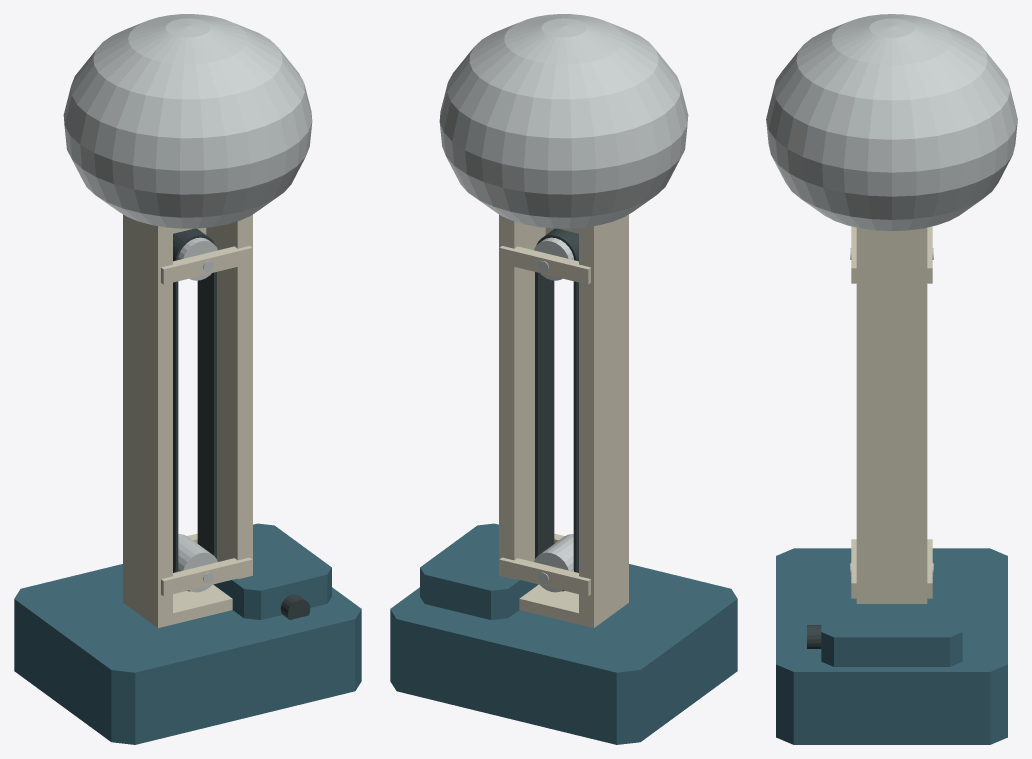
The picture shows the model from 3 angles, left to right: view 1: azimuth 30°, elevation 25°; view 2: azimuth 150°, elevation 25°; view 3: azimuth 270°, elevation 25°; orthographic projection.
Parts seen in each view (by area): view 1: WholeRoundedTerminalCover, WholeLowChamferedBase, WholeWindowedColumn, WholeContinuousWideReturnBelt, WholeSideDriveHousing, WholeBearingCrossbar0_0, WholeBearingCrossbar1_0, WholeRoller0, WholeRoller1, WholeBlankControlKnob; view 2: WholeRoundedTerminalCover, WholeLowChamferedBase, WholeWindowedColumn, WholeContinuousWideReturnBelt, WholeSideDriveHousing, WholeBearingCrossbar0_1, WholeBearingCrossbar1_1, WholeRoller0, WholeRoller1; view 3: WholeRoundedTerminalCover, WholeLowChamferedBase, WholeWindowedColumn, WholeSideDriveHousing.
Boxes of the visible parts, x1,y1,x2,y2 form: WholeRoundedTerminalCover: [63, 14, 312, 228]; WholeLowChamferedBase: [14, 564, 361, 744]; WholeWindowedColumn: [123, 214, 252, 627]; WholeContinuousWideReturnBelt: [173, 228, 216, 591]; WholeSideDriveHousing: [213, 523, 331, 619]; WholeBearingCrossbar0_0: [161, 557, 252, 596]; WholeBearingCrossbar1_0: [161, 246, 252, 284]; WholeRoller0: [178, 534, 217, 592]; WholeRoller1: [178, 237, 217, 280]; WholeBlankControlKnob: [280, 594, 310, 619]; WholeRoundedTerminalCover: [439, 14, 688, 228]; WholeLowChamferedBase: [390, 564, 737, 744]; WholeWindowedColumn: [499, 214, 628, 627]; WholeContinuousWideReturnBelt: [535, 228, 578, 591]; WholeSideDriveHousing: [420, 523, 538, 619]; WholeBearingCrossbar0_1: [499, 557, 590, 596]; WholeBearingCrossbar1_1: [499, 246, 590, 284]; WholeRoller0: [534, 534, 573, 592]; WholeRoller1: [534, 237, 573, 280]; WholeRoundedTerminalCover: [766, 14, 1017, 230]; WholeLowChamferedBase: [776, 548, 1007, 744]; WholeWindowedColumn: [856, 227, 927, 603]; WholeSideDriveHousing: [821, 594, 962, 666].
Size of the model in its own units: 0.58 by 1.44 by 0.5.
